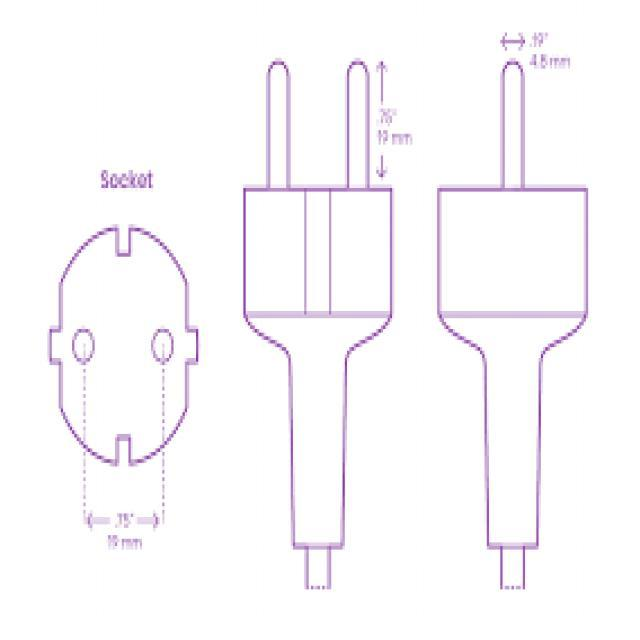typeb: (36, 208, 211, 480)
